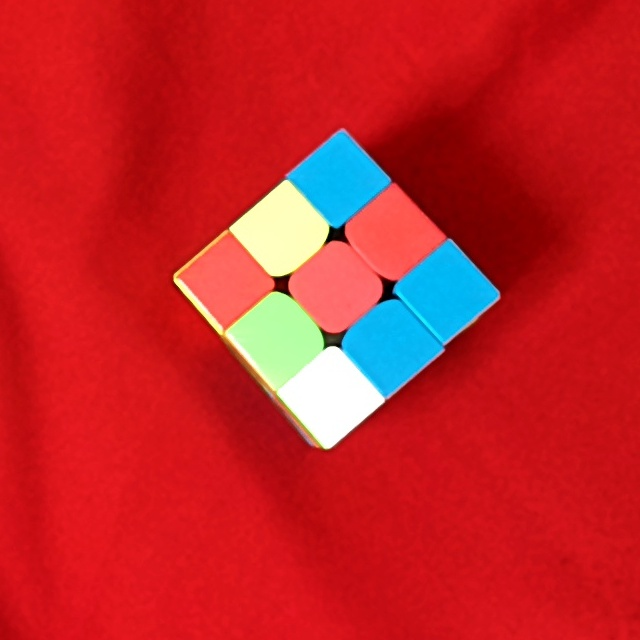tile: (368, 207, 420, 260), (198, 257, 252, 305), (313, 155, 364, 205), (304, 370, 353, 420), (426, 270, 475, 319), (313, 267, 364, 313), (367, 327, 417, 371), (261, 204, 305, 253), (252, 313, 301, 357)
